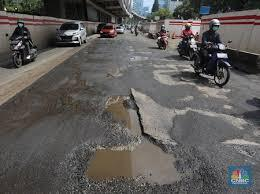Pothole: (90, 88, 185, 194), (151, 57, 242, 110), (210, 104, 260, 149), (90, 57, 137, 87), (116, 45, 144, 75)
